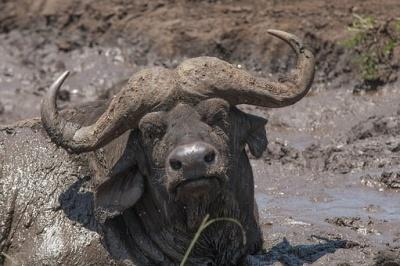buffalo: (40, 30, 316, 266)
